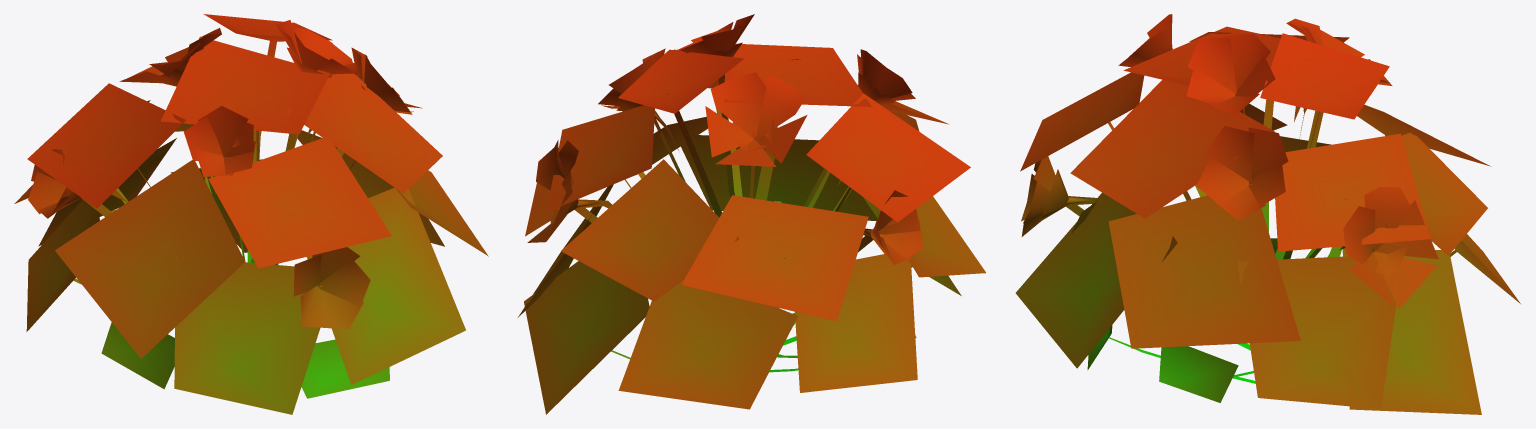
File: Var6_LOD2.fbx
3 renders of one model, left to right at view 1: azimuth 30°, elevation 25°; view 2: azimuth 150°, elevation 25°; view 3: azimuth 270°, elevation 25°, orthographic. The views are drawn at different scales.
Visible parts, largest first — view 1: _2fc4_Var6_LOD2; view 2: _2fc4_Var6_LOD2; view 3: _2fc4_Var6_LOD2.
Part boxes in pixels (x1,y1,x2,y2): _2fc4_Var6_LOD2: [14, 14, 488, 414]; _2fc4_Var6_LOD2: [518, 14, 985, 414]; _2fc4_Var6_LOD2: [1015, 14, 1520, 414].
Bounding box in the file's own units: 28.23 × 23.61 × 29.91.
